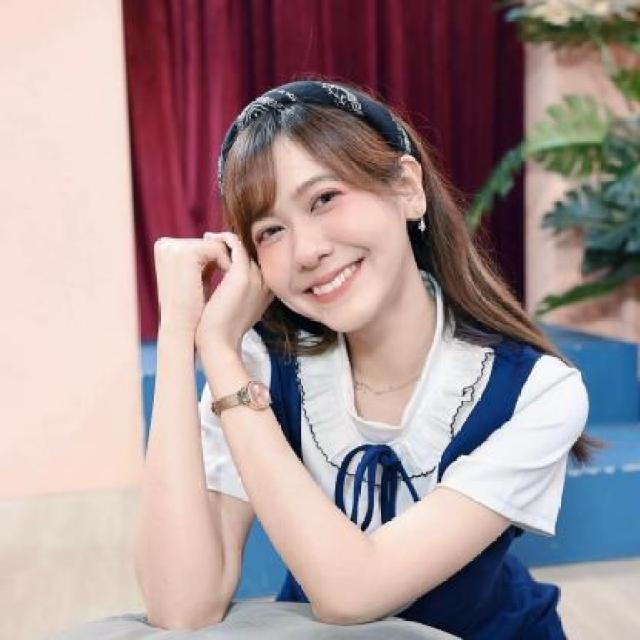sem_oculos: (233, 184, 387, 227)
